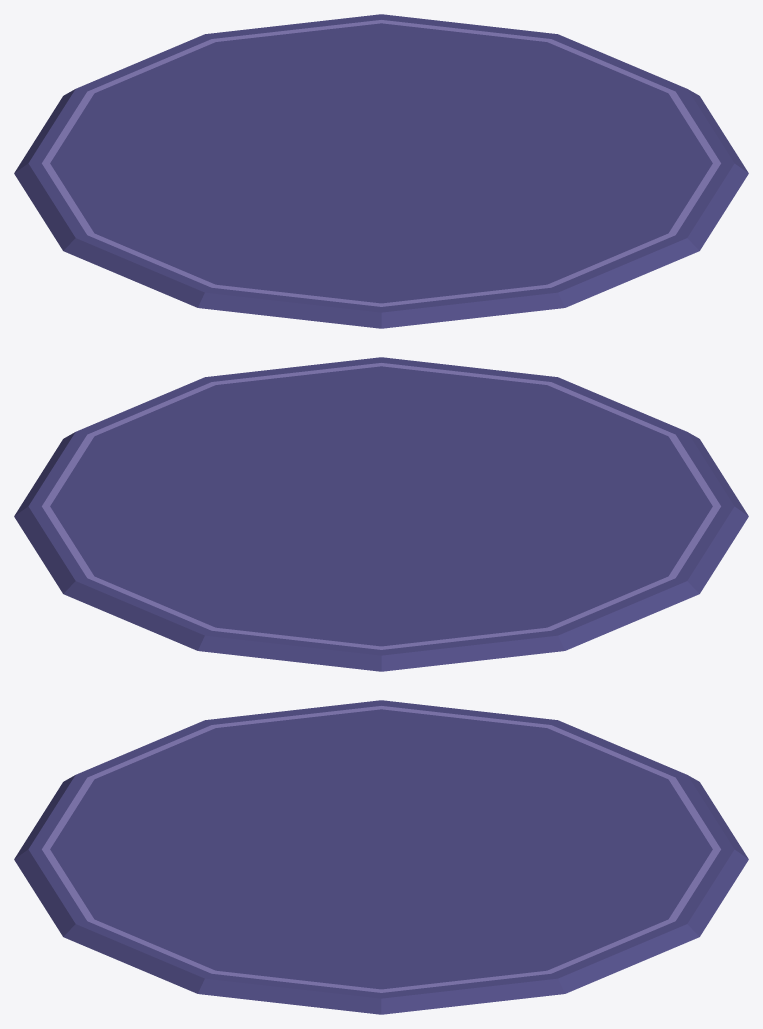
File: rug4.glb
3 views of the same model, one above another, from view 1: azimuth 30°, elevation 25°; view 2: azimuth 150°, elevation 25°; view 3: azimuth 270°, elevation 25° (orthographic).
Visible parts, largest first — view 1: rukh; view 2: rukh; view 3: rukh.
Part boxes in pixels (<box>): rukh: <box>14,14,748,328</box>; rukh: <box>14,357,748,671</box>; rukh: <box>14,700,748,1014</box>.
Size of the model in its own units: 1167 by 17.68 by 1167.
1 material, 1 textured.
